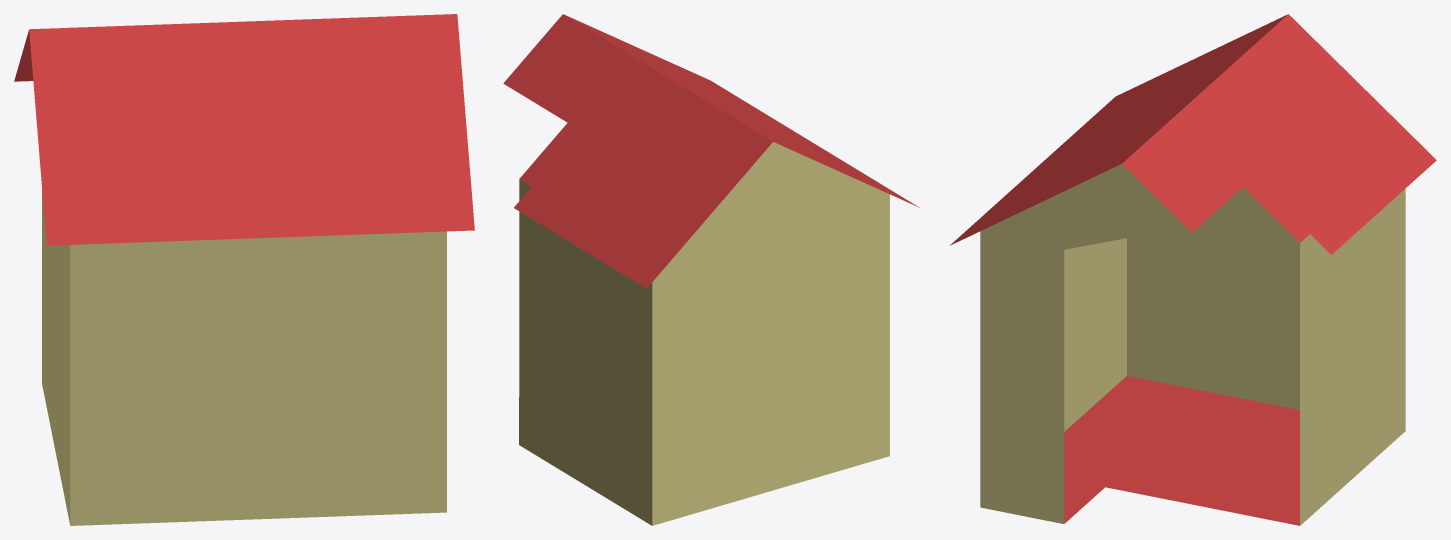
3 renders of one model, left to right at view 1: azimuth 30°, elevation 25°; view 2: azimuth 150°, elevation 25°; view 3: azimuth 270°, elevation 25°, orthographic. The views are drawn at different scales.
Size of the model in its own units: 14.95 by 15.56 by 13.47.
